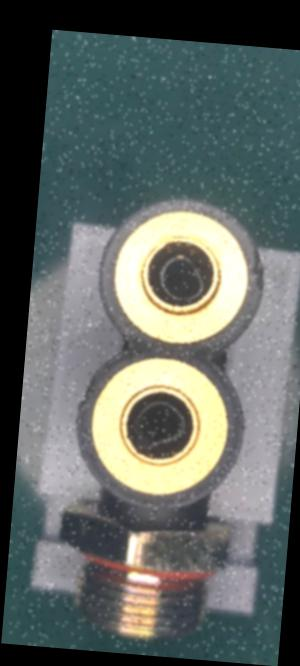bump: (246, 246, 268, 290), (76, 372, 96, 420)
off-centered: (147, 245, 217, 309), (128, 393, 192, 455)
